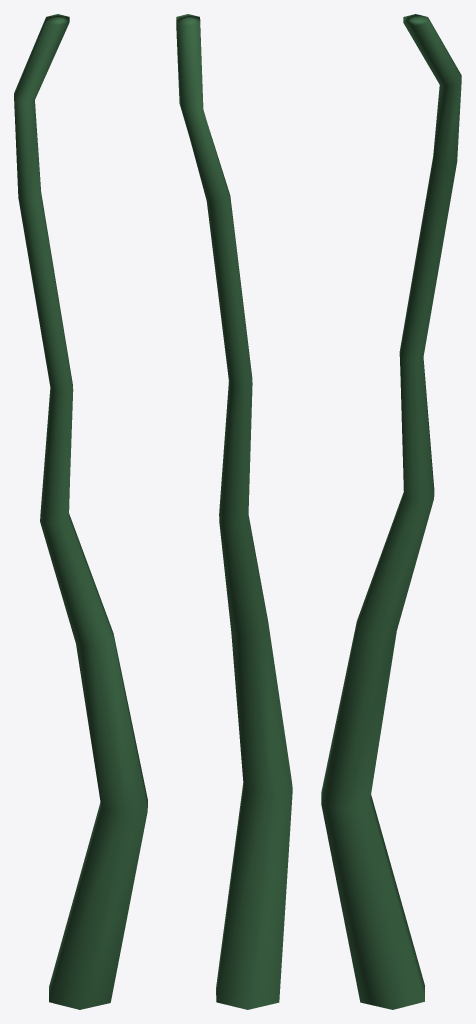
The model's file is StemA.fbx.
The picture shows the model from 3 angles, left to right: view 1: azimuth 90°, elevation 25°; view 2: azimuth 150°, elevation 25°; view 3: azimuth 270°, elevation 25°; orthographic projection. The views are drawn at different scales.
Parts seen in each view (by area): view 1: StemA; view 2: StemA; view 3: StemA.
Boxes of the visible parts, x1,y1,x2,y2 form: StemA: (14, 14, 147, 1009); StemA: (176, 14, 292, 1009); StemA: (321, 14, 461, 1009).
Bounding box in the file's own units: 0.0482 × 0.4867 × 0.062.
